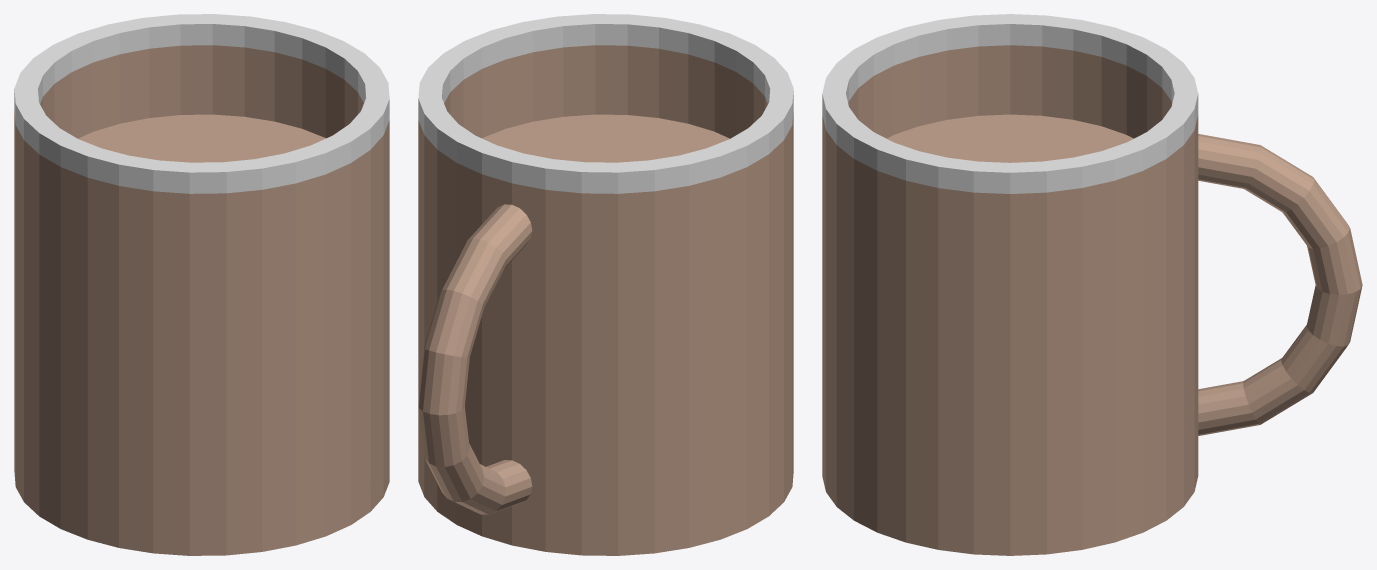
File: Poharasztalon.glb
3 renders of one model, left to right at view 1: azimuth 30°, elevation 25°; view 2: azimuth 150°, elevation 25°; view 3: azimuth 270°, elevation 25°, orthographic.
Visible parts, largest first — view 1: VisualSceneNode1; view 2: VisualSceneNode1; view 3: VisualSceneNode1.
Part boxes in pixels (<box>): VisualSceneNode1: <box>14,14,389,555</box>; VisualSceneNode1: <box>418,14,793,555</box>; VisualSceneNode1: <box>822,14,1362,555</box>.
Size of the model in its own units: 0.1 by 0.1125 by 0.1438.
